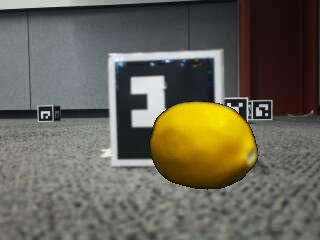lemon: (151, 101, 257, 188)
